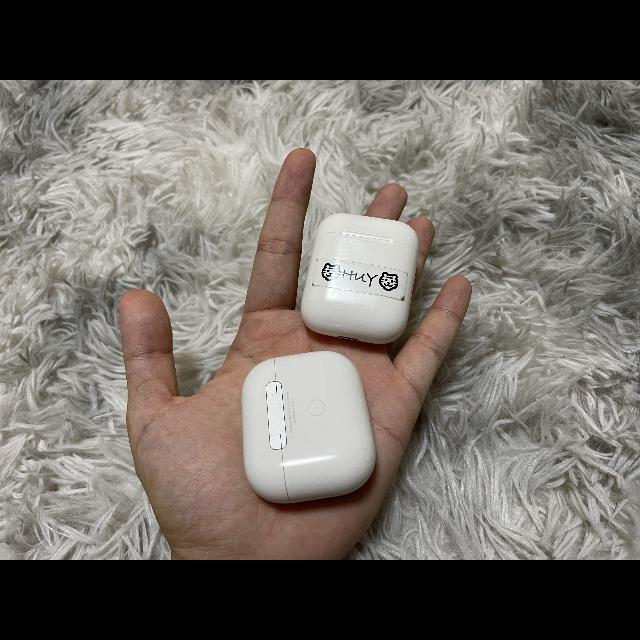airpod2: (300, 210, 420, 346)
airpod3: (230, 348, 382, 508)
